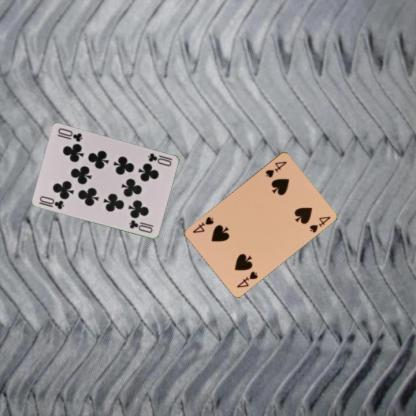10c: (36, 193, 66, 210), (145, 150, 173, 168)
4s: (234, 268, 259, 289), (263, 158, 288, 178)
